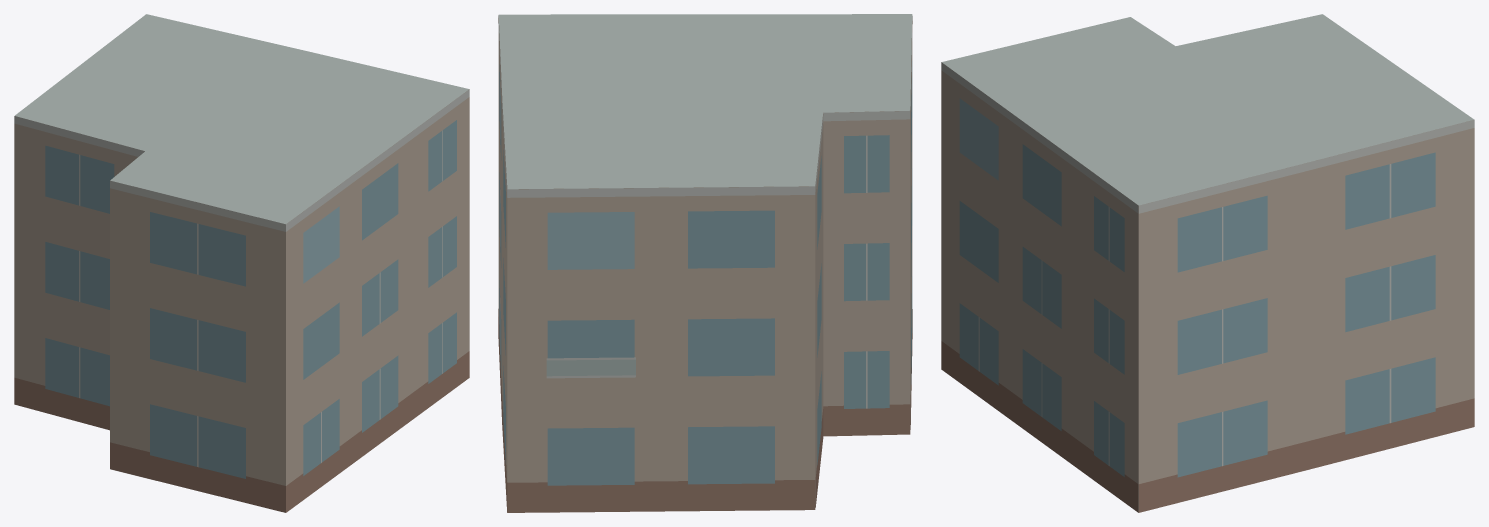
Rendered from survey-upis-32681444.glb.
3 views of the same model, side by side, from view 1: azimuth 30°, elevation 25°; view 2: azimuth 150°, elevation 25°; view 3: azimuth 270°, elevation 25° (orthographic). The views are drawn at different scales.
Parts seen in each view (by area): view 1: survey-upis-32681444.tmp; view 2: survey-upis-32681444.tmp; view 3: survey-upis-32681444.tmp.
Boxes of the visible parts, left/top/right/bottom form: survey-upis-32681444.tmp: left=14, top=14, right=469, bottom=512; survey-upis-32681444.tmp: left=498, top=14, right=912, bottom=512; survey-upis-32681444.tmp: left=941, top=14, right=1474, bottom=512.
Size of the model in its own units: 12.24 by 9.15 by 14.4.
